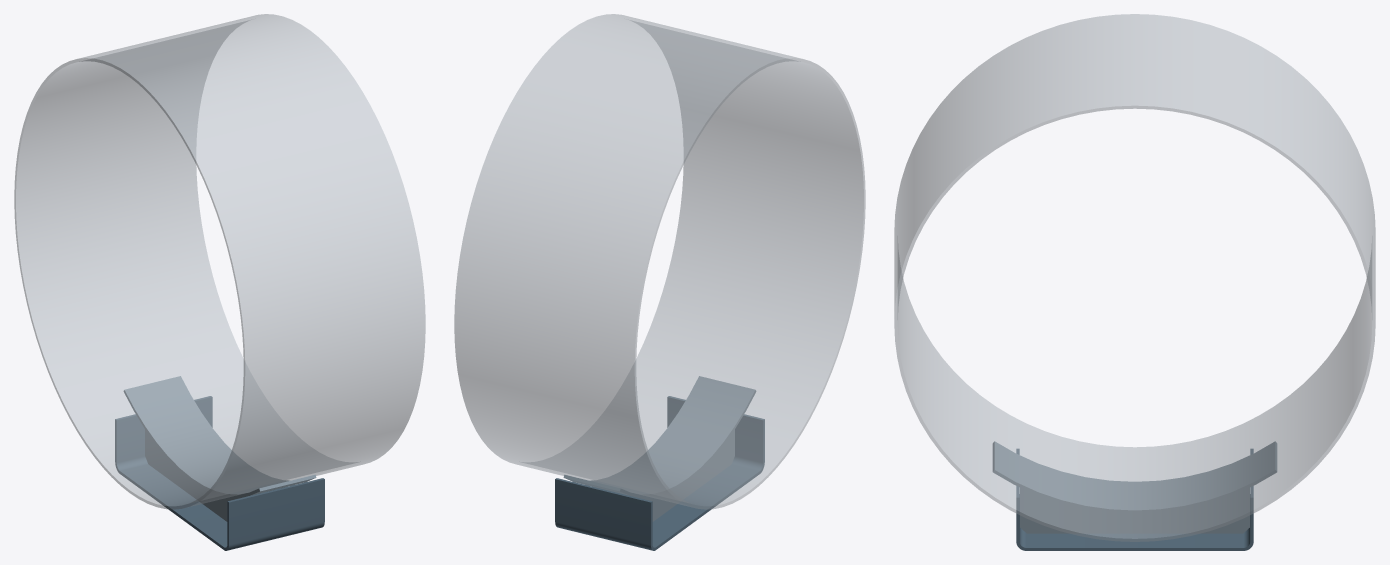
Rendered from TS-624.000-069-opora-dn1420-H100-L340.glb.
3 views of the same model, side by side, from view 1: azimuth 30°, elevation 25°; view 2: azimuth 150°, elevation 25°; view 3: azimuth 270°, elevation 25° (orthographic). The views are drawn at different scales.
Parts seen in each view (by area): view 1: truba, skoba, podushka_0, rebro3_0; view 2: truba, skoba, podushka_0, rebro3_0; view 3: truba, podushka_0, rebro3_1, skoba.
Part boxes in pixels (bbox=[...]): truba: bbox=[14, 14, 425, 509]; skoba: bbox=[115, 396, 324, 550]; podushka_0: bbox=[123, 376, 316, 497]; rebro3_0: bbox=[145, 430, 248, 521]; truba: bbox=[454, 14, 865, 509]; skoba: bbox=[555, 396, 764, 550]; podushka_0: bbox=[563, 376, 756, 497]; rebro3_0: bbox=[631, 430, 734, 521]; truba: bbox=[894, 14, 1375, 541]; podushka_0: bbox=[992, 441, 1277, 513]; rebro3_1: bbox=[1020, 487, 1249, 533]; skoba: bbox=[1016, 448, 1253, 550].
Size of the model in its own units: 640 by 1519 by 1420.
